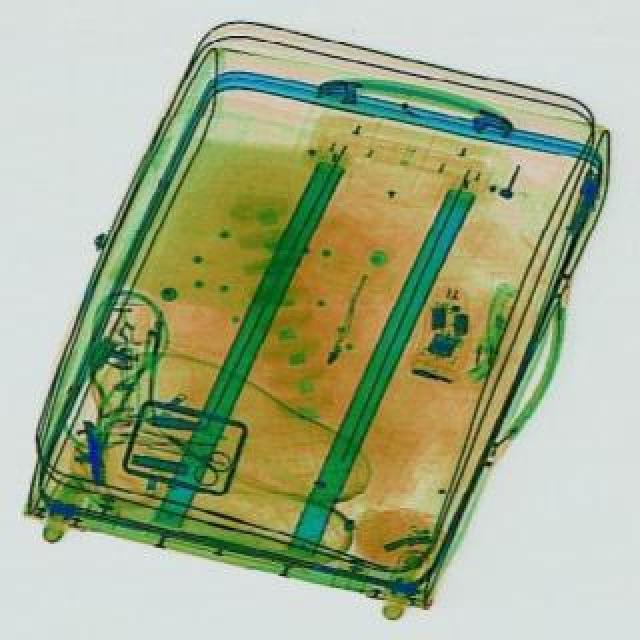pliers: (148, 418, 236, 490)
